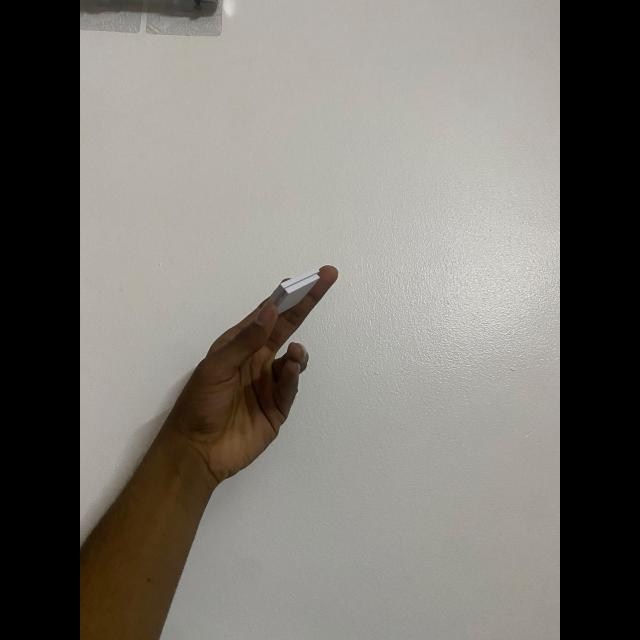RASPBERY PI CAM ENCLOSURE: (270, 270, 320, 314)
